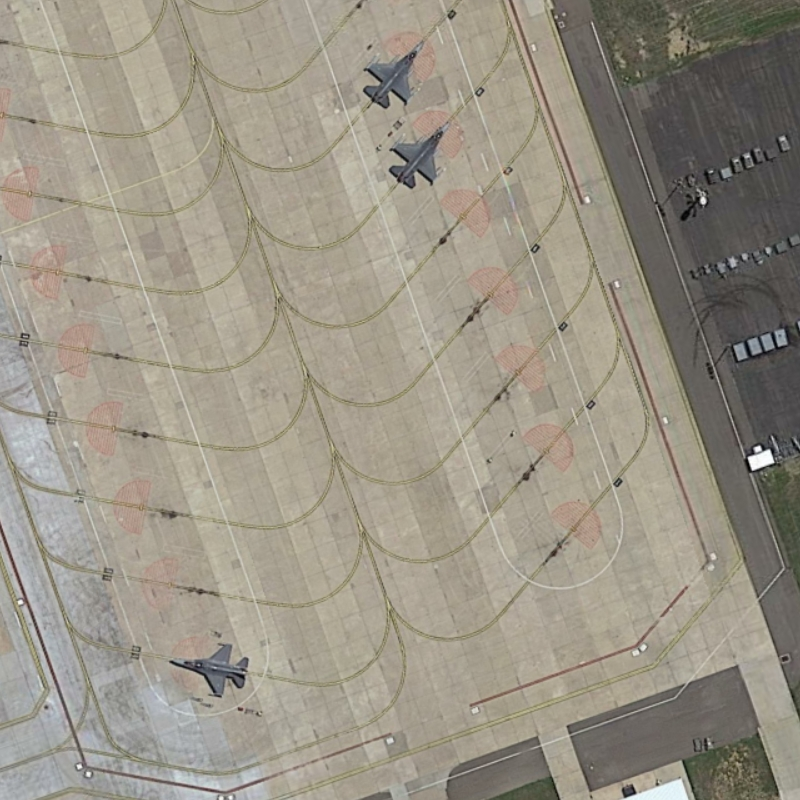A5: (165, 636, 254, 701), (383, 117, 455, 196), (361, 39, 430, 114)
